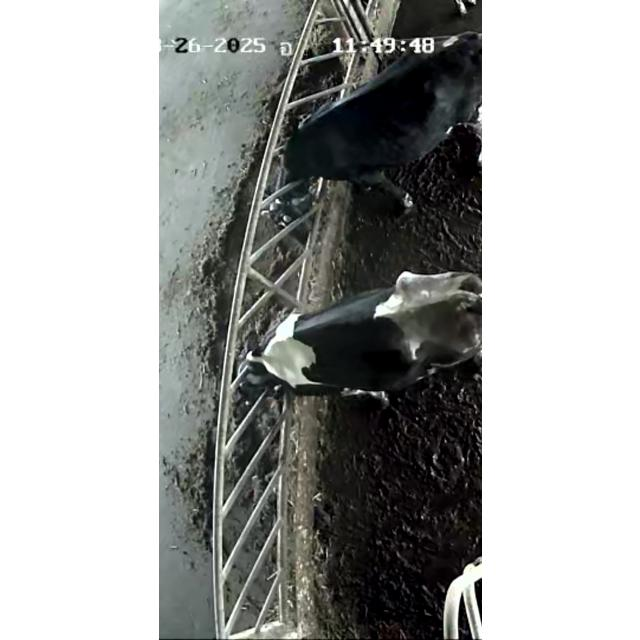eat: (190, 305, 352, 417), (220, 118, 358, 242)
